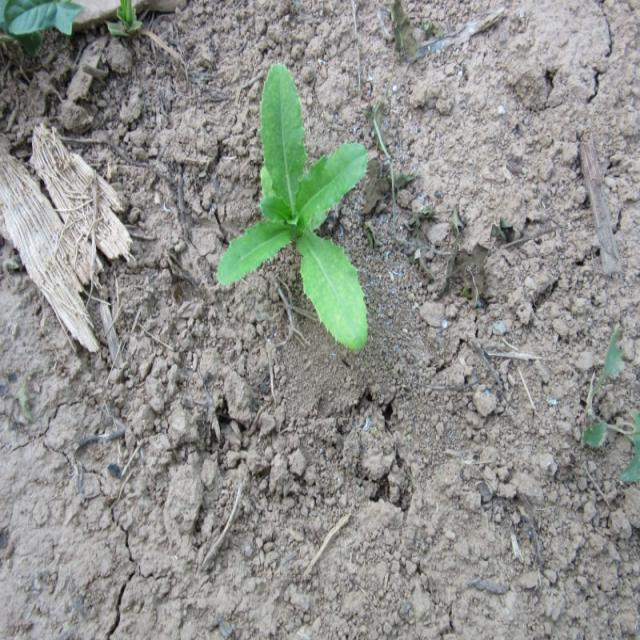cs: (214, 60, 371, 351)
